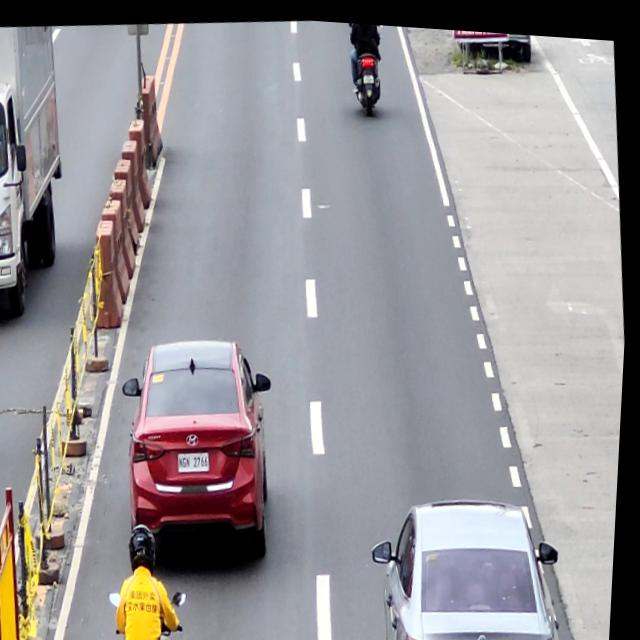Car: (117, 325, 292, 573), (368, 477, 576, 640)
License-Plate: (181, 447, 216, 472), (362, 68, 375, 79)
Motorcycle: (342, 18, 390, 112)
